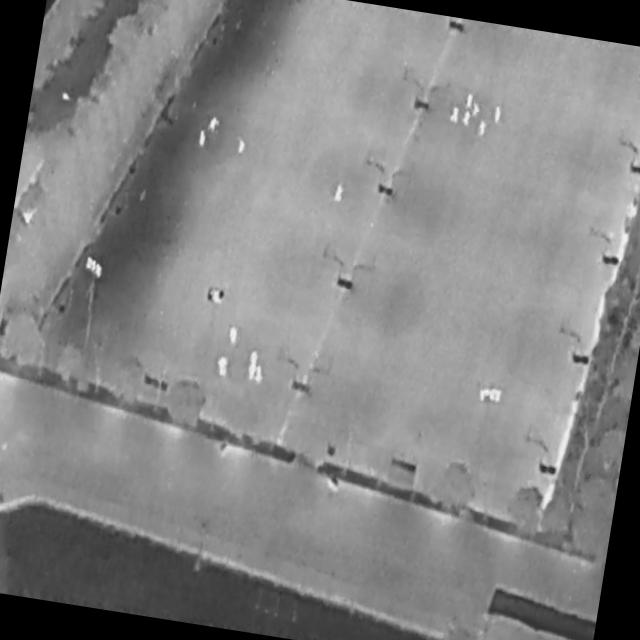person: (216, 357, 230, 378), (209, 117, 222, 136), (229, 327, 240, 347), (255, 365, 266, 385), (451, 106, 462, 125), (250, 351, 261, 370), (335, 185, 345, 203), (494, 107, 504, 124), (247, 365, 257, 382), (463, 111, 473, 127), (199, 132, 208, 149), (466, 94, 475, 111), (479, 121, 488, 138), (472, 104, 482, 119), (238, 140, 247, 156)
